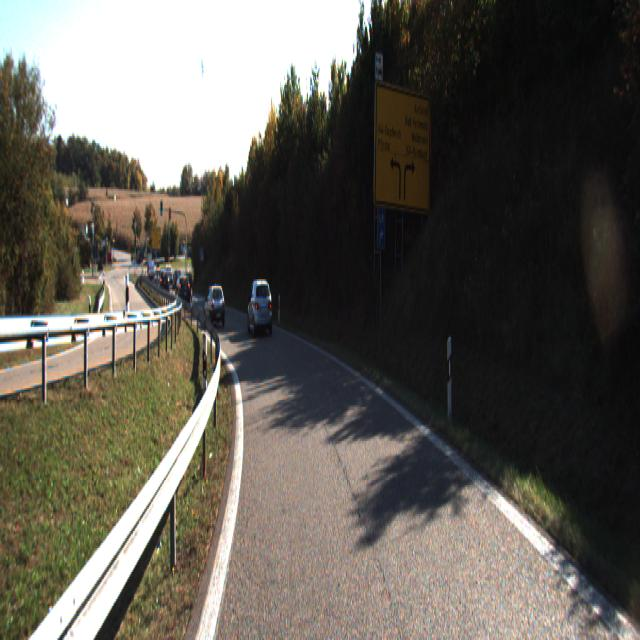Car: (246, 276, 272, 333), (204, 285, 226, 327), (176, 274, 191, 305)
DontCare: (144, 254, 173, 297)
